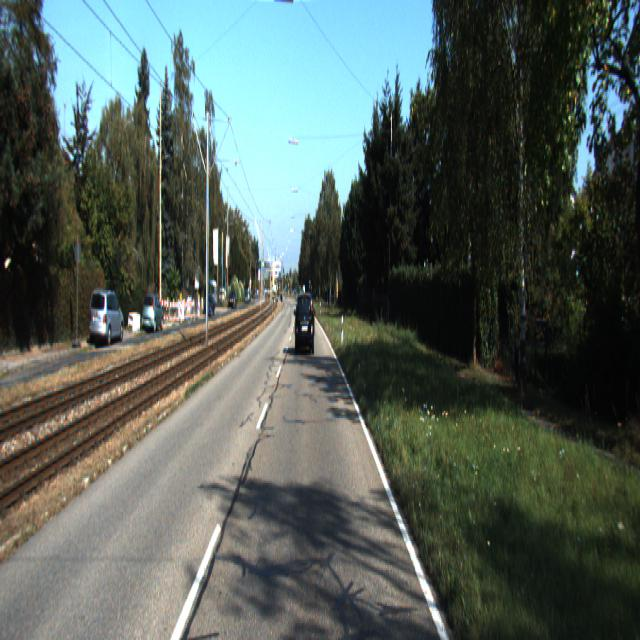Car: (89, 288, 125, 347), (296, 294, 315, 356), (141, 292, 165, 333)
